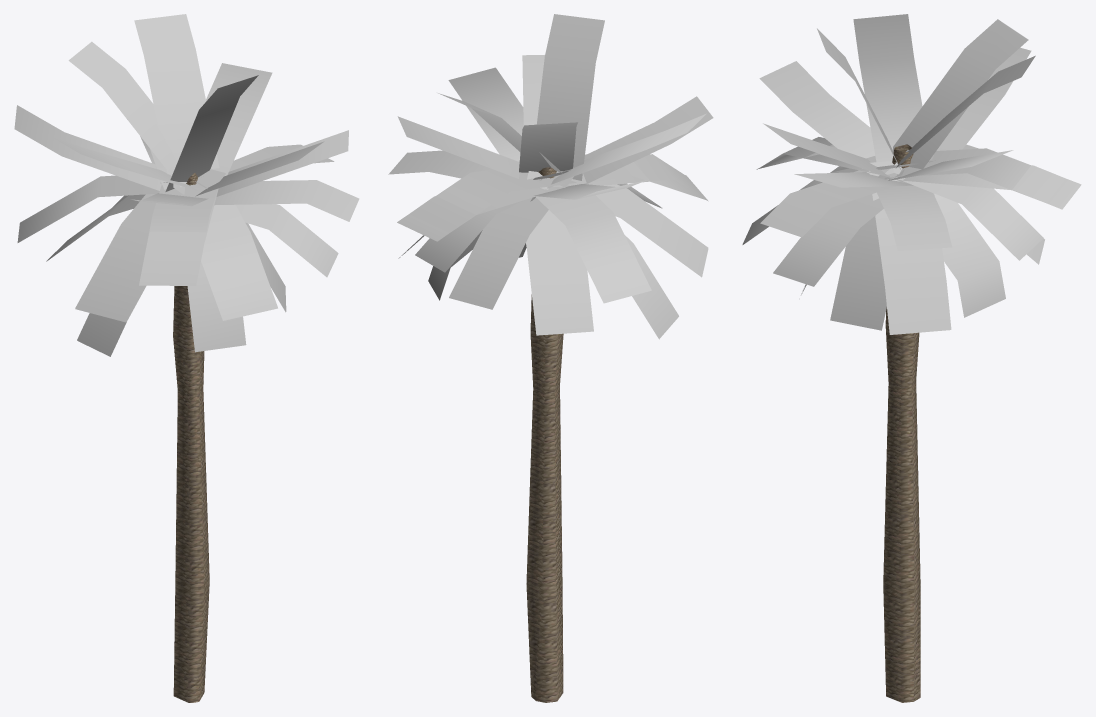
The model's file is PalmTree3.FBX.
The picture shows the model from 3 angles, left to right: view 1: azimuth 30°, elevation 25°; view 2: azimuth 150°, elevation 25°; view 3: azimuth 270°, elevation 25°; orthographic projection. The views are drawn at different scales.
Parts seen in each view (by area): view 1: PalmTree3__1_; view 2: PalmTree3__1_; view 3: PalmTree3__1_.
Part boxes in pixels (x1,y1,x2,y2): PalmTree3__1_: (14,14,359,702); PalmTree3__1_: (388,14,713,702); PalmTree3__1_: (742,14,1081,702).
Size of the model in its own units: 99.09 by 215 by 100.
